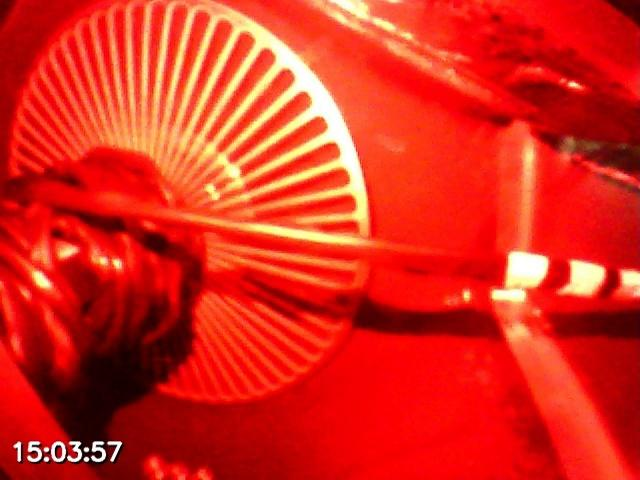white-dots: (506, 251, 640, 304)
